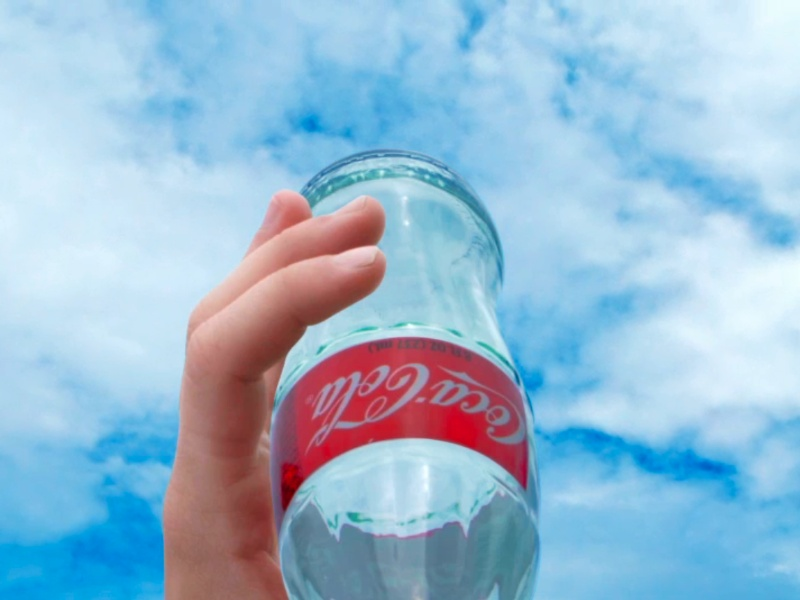Glass bottle: (282, 119, 582, 571)
